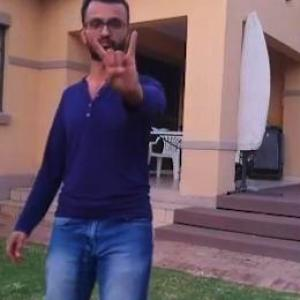takeoff-hand: (86, 21, 149, 105)
